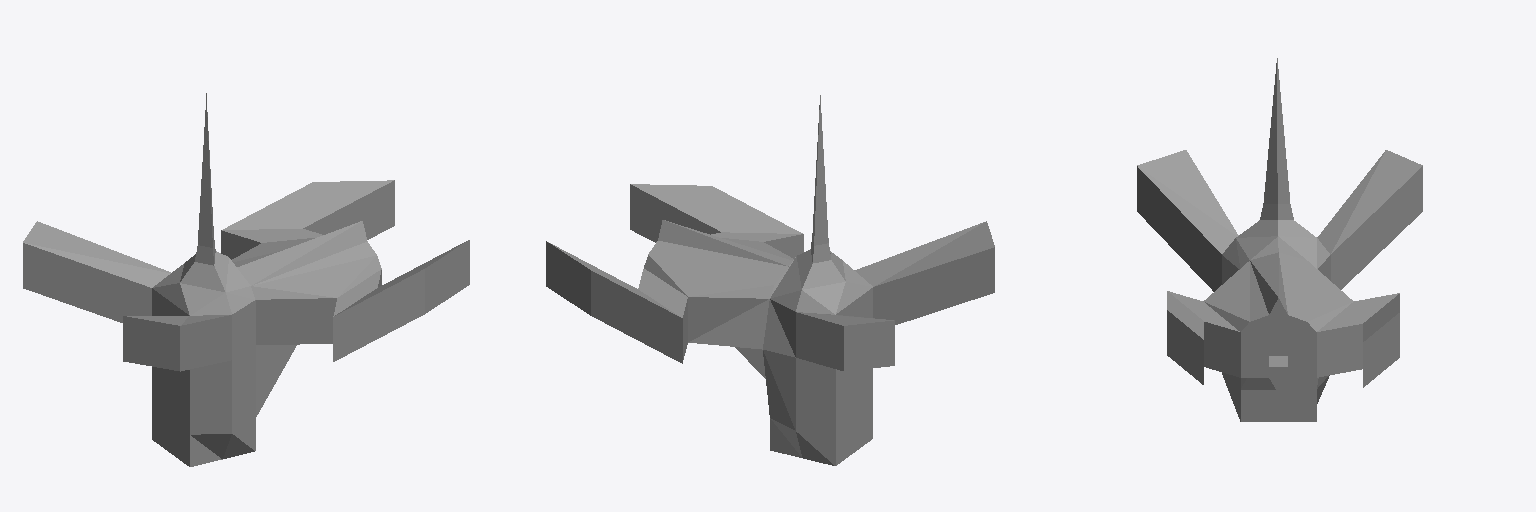
The model's file is torre2c3.obj.
3 renders of one model, left to right at view 1: azimuth 30°, elevation 25°; view 2: azimuth 150°, elevation 25°; view 3: azimuth 270°, elevation 25°, orthographic.
Visible parts, largest first — view 1: Cube; view 2: Cube; view 3: Cube.
Part boxes in pixels (left/top/right/bottom): Cube: left=23, top=93, right=469, bottom=466; Cube: left=546, top=95, right=994, bottom=465; Cube: left=1137, top=58, right=1422, bottom=421.
Size of the model in its own units: 5.48 by 5.12 by 3.78.